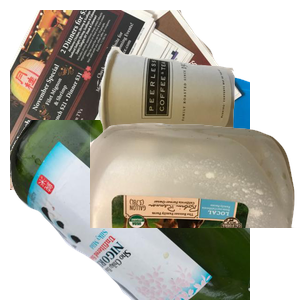glass: (10, 120, 250, 300)
paper: (10, 10, 250, 190)
plastic: (90, 120, 300, 300)
trash: (95, 44, 300, 180)
